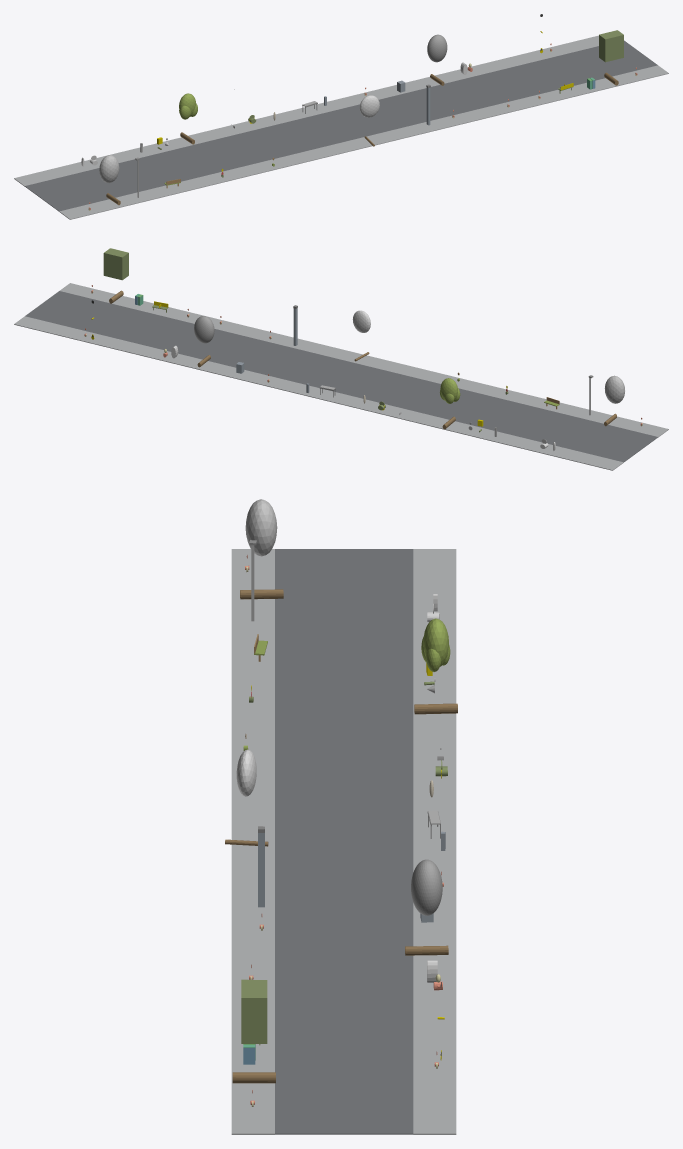
The picture shows the model from 3 angles, top to bottom: view 1: azimuth 30°, elevation 25°; view 2: azimuth 150°, elevation 25°; view 3: azimuth 270°, elevation 25°; orthographic projection. The views are drawn at different scales.
Parts seen in each view (by area): view 1: road_slab, sidewalk_left, sidewalk_right, inst_0016, inst_0012, inst_0015, inst_0013, inst_0014; view 2: road_slab, sidewalk_right, sidewalk_left, inst_0016, inst_0012, inst_0015, inst_0013, inst_0014; view 3: road_slab, sidewalk_right, sidewalk_left, inst_0016, inst_0015, inst_0012, inst_0013, inst_0014.
Part boxes in pixels (x1=…): road_slab: x1=24, y1=40, x2=657, y2=211; sidewalk_left: x1=59, y1=65, x2=668, y2=219; sidewalk_right: x1=14, y1=35, x2=598, y2=186; inst_0016: x1=599, y1=30, x2=623, y2=85; inst_0012: x1=99, y1=155, x2=120, y2=205; inst_0015: x1=427, y1=34, x2=447, y2=85; inst_0013: x1=179, y1=93, x2=197, y2=144; inst_0014: x1=359, y1=95, x2=379, y2=146; road_slab: x1=25, y1=291, x2=658, y2=462; sidewalk_right: x1=14, y1=316, x2=623, y2=470; sidewalk_left: x1=59, y1=283, x2=668, y2=437; inst_0016: x1=103, y1=248, x2=128, y2=303; inst_0012: x1=604, y1=375, x2=624, y2=426; inst_0015: x1=194, y1=316, x2=214, y2=367; inst_0013: x1=439, y1=378, x2=460, y2=429; inst_0014: x1=352, y1=310, x2=370, y2=361; road_slab: x1=275, y1=549, x2=413, y2=1134; sidewalk_right: x1=413, y1=549, x2=456, y2=1134; sidewalk_left: x1=231, y1=549, x2=274, y2=1134; inst_0016: x1=232, y1=979, x2=275, y2=1083; inst_0015: x1=405, y1=859, x2=448, y2=955; inst_0012: x1=240, y1=499, x2=283, y2=599; inst_0013: x1=414, y1=618, x2=457, y2=714; inst_0014: x1=225, y1=749, x2=268, y2=846.
Size of the model in its own units: 80 by 6.08 by 13.47.
